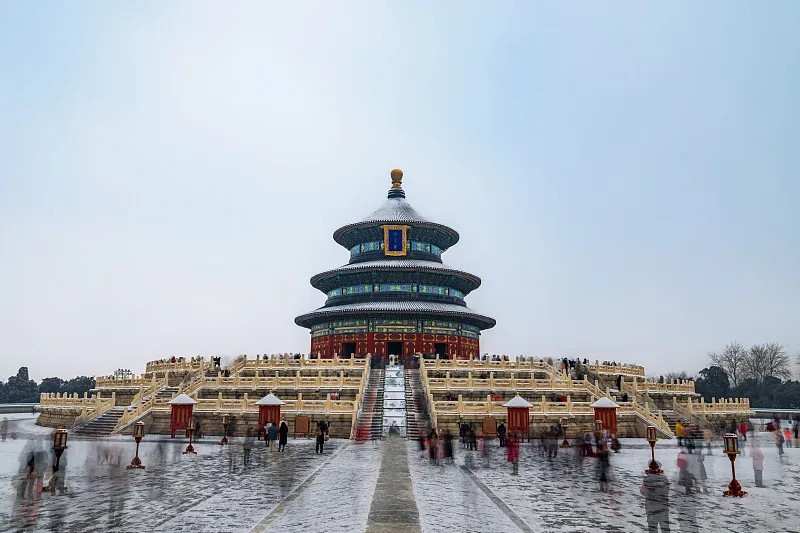Heaven: (294, 166, 496, 369)
